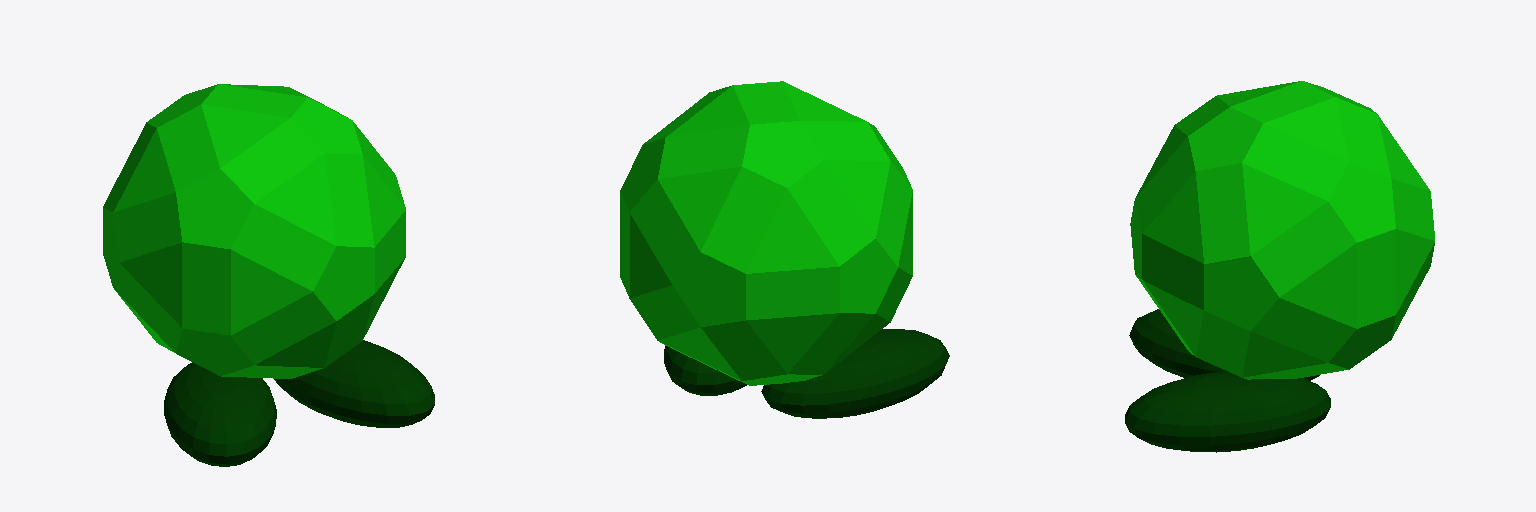
3 views of the same model, side by side, from view 1: azimuth 30°, elevation 25°; view 2: azimuth 150°, elevation 25°; view 3: azimuth 270°, elevation 25° (orthographic).
Parts seen in each view (by area): view 1: group10 pPlatonic1, group10 pSphere1, pasted__pSphere1 group10; view 2: group10 pPlatonic1, group10 pSphere1, pasted__pSphere1 group10; view 3: group10 pPlatonic1, pasted__pSphere1 group10, group10 pSphere1.
Part boxes in pixels (bbox=[...]): group10 pPlatonic1: bbox=[103, 84, 405, 378]; group10 pSphere1: bbox=[164, 362, 276, 466]; pasted__pSphere1 group10: bbox=[274, 340, 434, 427]; group10 pPlatonic1: bbox=[620, 81, 912, 385]; group10 pSphere1: bbox=[761, 329, 949, 418]; pasted__pSphere1 group10: bbox=[664, 346, 746, 395]; group10 pPlatonic1: bbox=[1130, 81, 1434, 379]; pasted__pSphere1 group10: bbox=[1125, 371, 1330, 452]; group10 pSphere1: bbox=[1129, 309, 1319, 380].
Bounding box in the file's own units: 1.7 × 1.88 × 1.72.
1 materials, 1 textured.